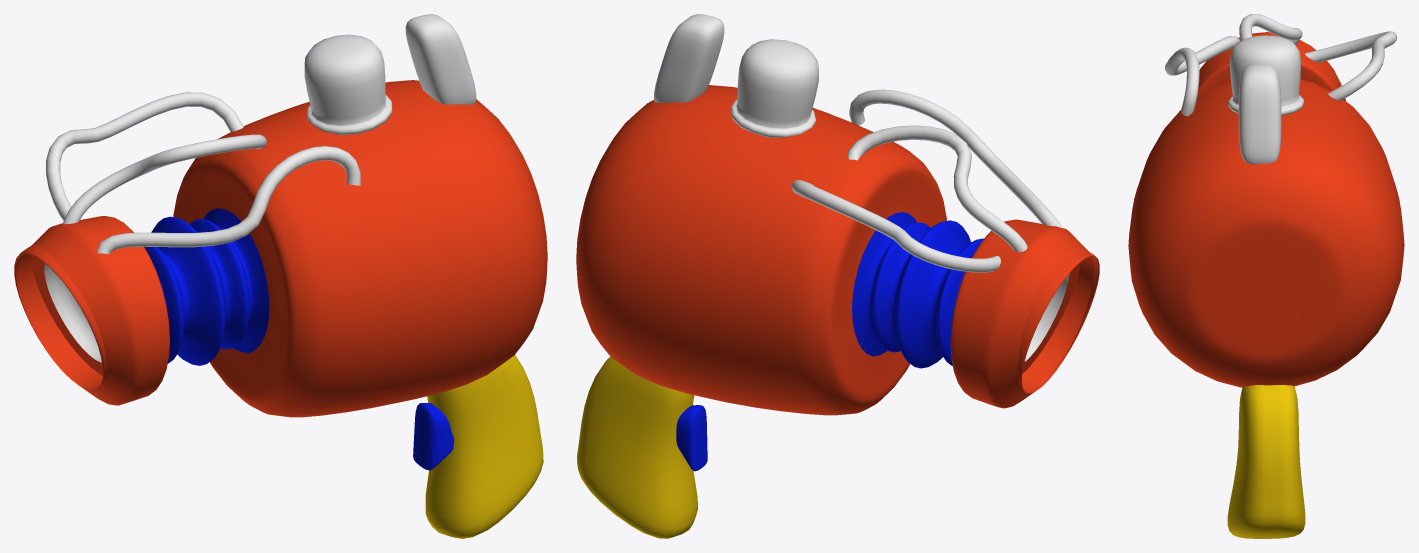
File: Pistola.fbx
The picture shows the model from 3 angles, left to right: view 1: azimuth 30°, elevation 25°; view 2: azimuth 150°, elevation 25°; view 3: azimuth 270°, elevation 25°; orthographic projection. The views are drawn at different scales.
Visible parts, largest first — view 1: Cylinder.002, Cylinder.004, Cube, Cylinder.003, BézierCurve, Cylinder.001, Cube.002, Cube.001, Cylinder.005; view 2: Cylinder.002, Cylinder.004, Cube, Cylinder.003, BézierCurve, Cylinder.001, Cube.002, Cube.001, Cylinder.005; view 3: Cylinder.002, Cube, BézierCurve, Cube.002, Cylinder.001, Cylinder.004.
Part boxes in pixels (x1,y1,x2,y2): Cylinder.002: (173, 80, 547, 417); Cylinder.004: (14, 216, 169, 405); Cube: (425, 355, 543, 538); Cylinder.003: (144, 208, 269, 365); BézierCurve: (46, 92, 360, 254); Cylinder.001: (304, 34, 392, 135); Cube.002: (405, 14, 476, 104); Cube.001: (413, 403, 454, 470); Cylinder.005: (44, 263, 101, 362); Cylinder.002: (576, 85, 946, 415); Cylinder.004: (950, 219, 1099, 408); Cube: (577, 357, 697, 538); Cylinder.003: (852, 212, 983, 368); BézierCurve: (791, 89, 1061, 272); Cylinder.001: (730, 39, 818, 137); Cube.002: (654, 14, 724, 102); Cube.001: (676, 405, 707, 471); Cylinder.005: (1024, 274, 1069, 361); Cylinder.002: (1128, 79, 1404, 387); Cube: (1227, 385, 1305, 538); BézierCurve: (1165, 14, 1397, 116); Cube.002: (1238, 64, 1281, 164); Cylinder.001: (1228, 35, 1304, 115); Cylinder.004: (1197, 32, 1345, 100).
Bounding box in the file's own units: 55.76 × 55.67 × 30.48.
